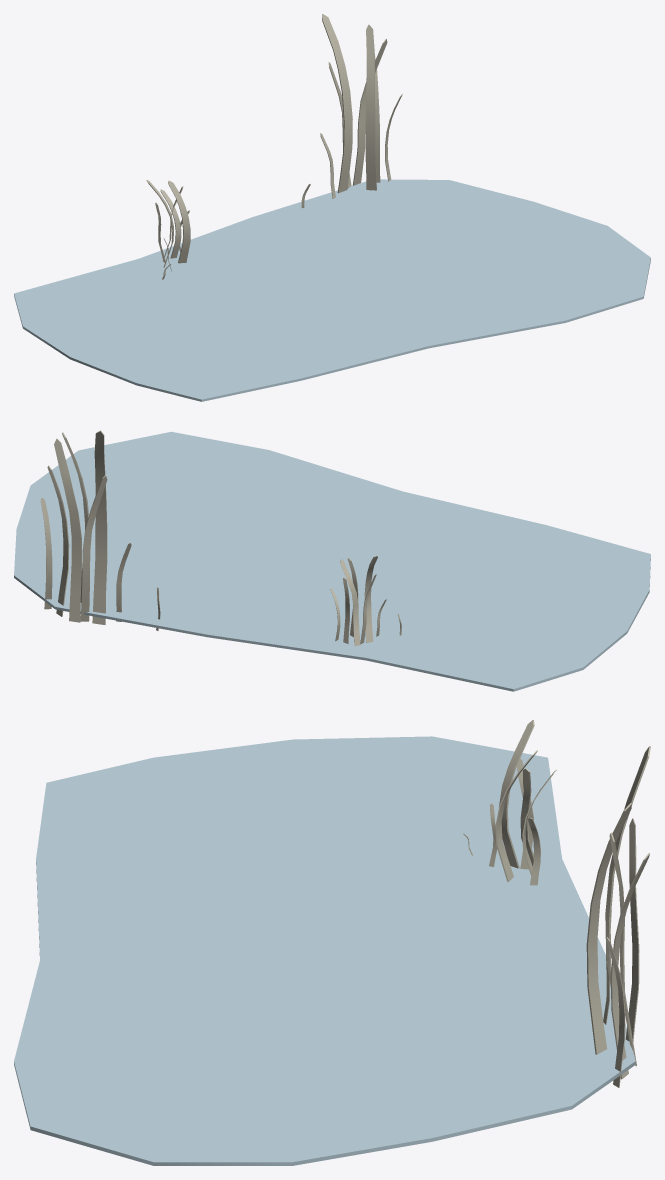
File: Mountain_Ice_2.fbx
The picture shows the model from 3 angles, top to bottom: view 1: azimuth 30°, elevation 25°; view 2: azimuth 150°, elevation 25°; view 3: azimuth 270°, elevation 25°; orthographic projection. The views are drawn at different scales.
Visible parts, largest first — view 1: pCube2, polySurface1346, polySurface1354; view 2: pCube2, polySurface1346, polySurface1354; view 3: pCube2, polySurface1346, polySurface1354.
Part boxes in pixels (left/top/right/bottom): pCube2: left=14, top=179, right=650, bottom=401; polySurface1346: left=301, top=14, right=402, bottom=207; polySurface1354: left=146, top=180, right=190, bottom=279; pCube2: left=14, top=431, right=650, bottom=691; polySurface1346: left=40, top=430, right=160, bottom=630; polySurface1354: left=330, top=555, right=401, bottom=646; pCube2: left=14, top=736, right=635, bottom=1165; polySurface1346: left=586, top=746, right=650, bottom=1087; polySurface1354: left=463, top=720, right=556, bottom=885.
Size of the model in its own units: 7.95 by 2.57 by 5.03.
